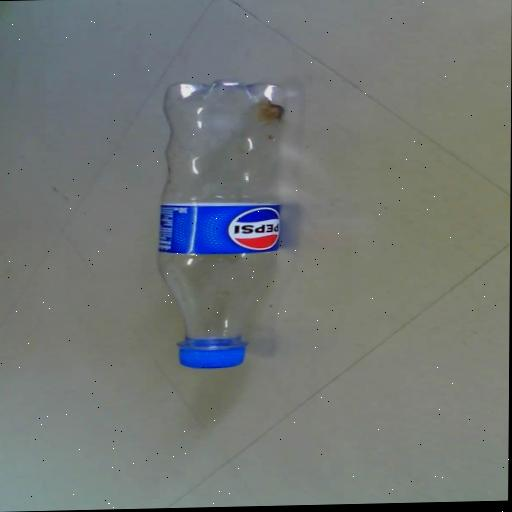bottle: (127, 57, 333, 380)
